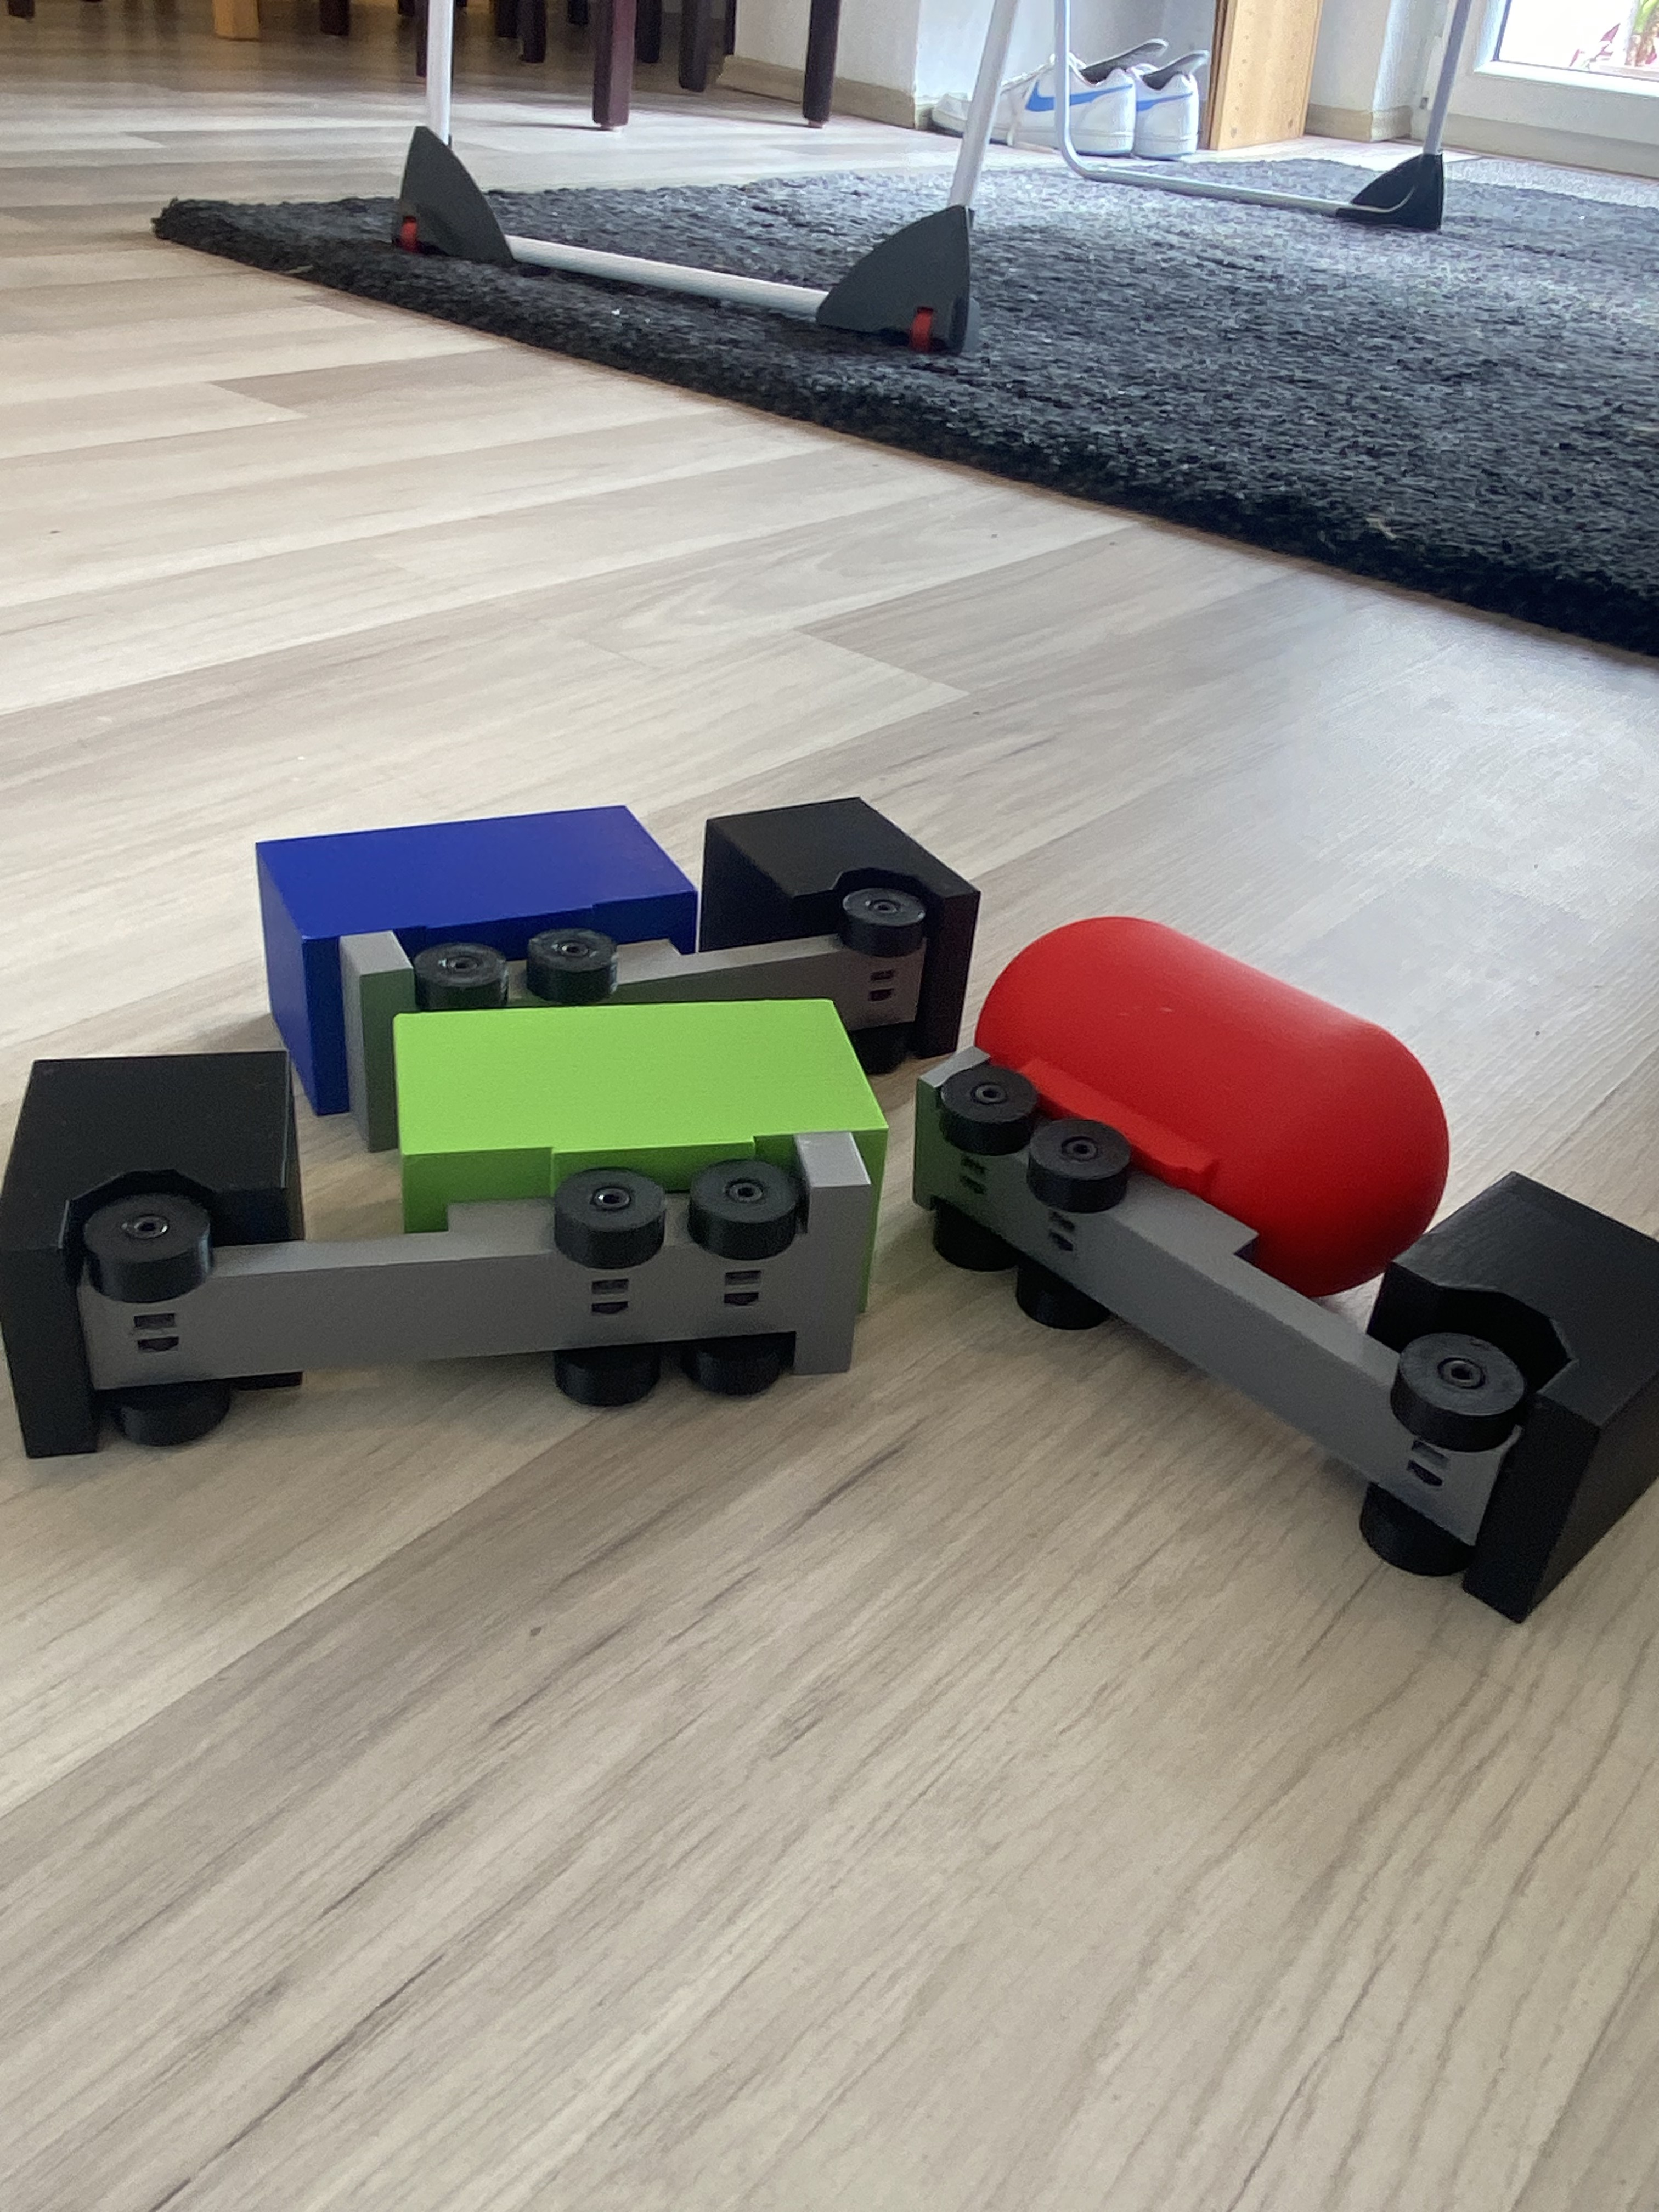blue_truck: (270, 763, 978, 1115)
green_truck: (237, 768, 659, 1665)
red_truck: (1096, 833, 1528, 1674)
